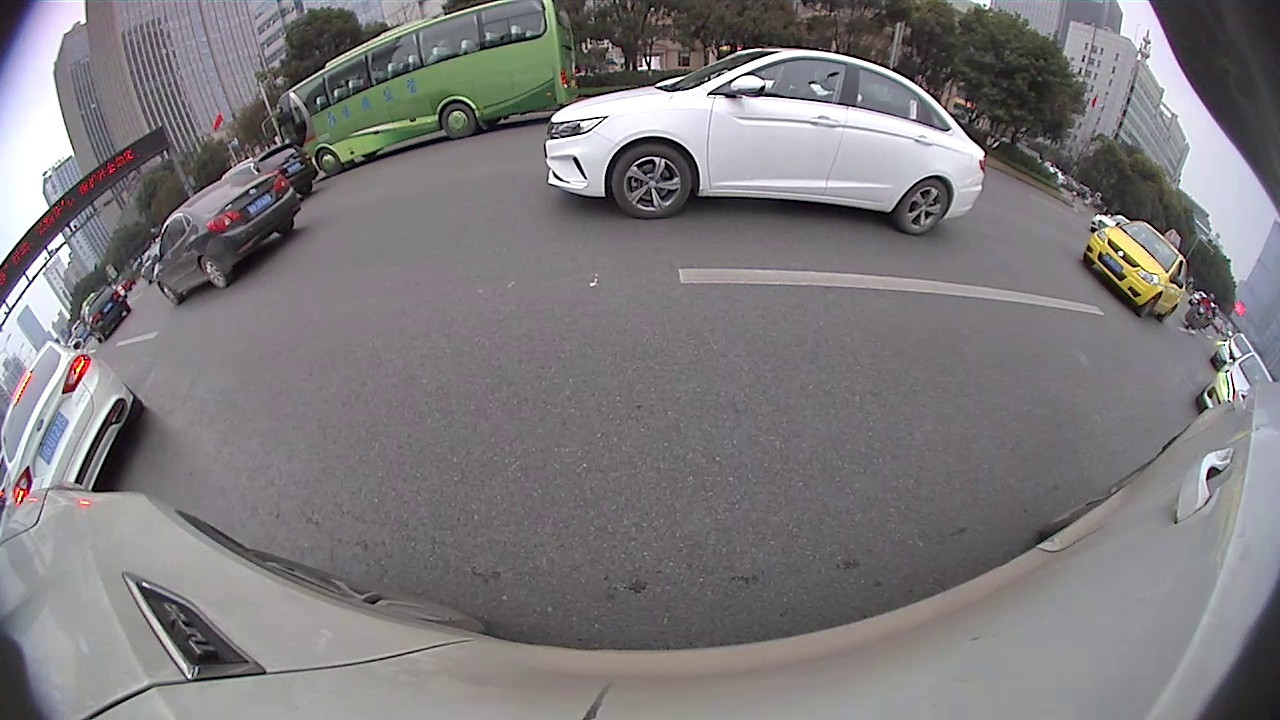bus: (268, 1, 566, 195)
car: (542, 47, 988, 239), (1, 340, 143, 507), (153, 177, 302, 306), (1085, 205, 1198, 321), (221, 146, 312, 199), (1199, 354, 1267, 413), (83, 287, 131, 334), (1211, 334, 1256, 366)
front: (610, 141, 695, 220), (316, 147, 345, 177), (159, 282, 180, 308)
rear: (895, 176, 951, 234), (440, 101, 477, 141), (203, 258, 230, 288)
rider: (1186, 286, 1213, 334)
